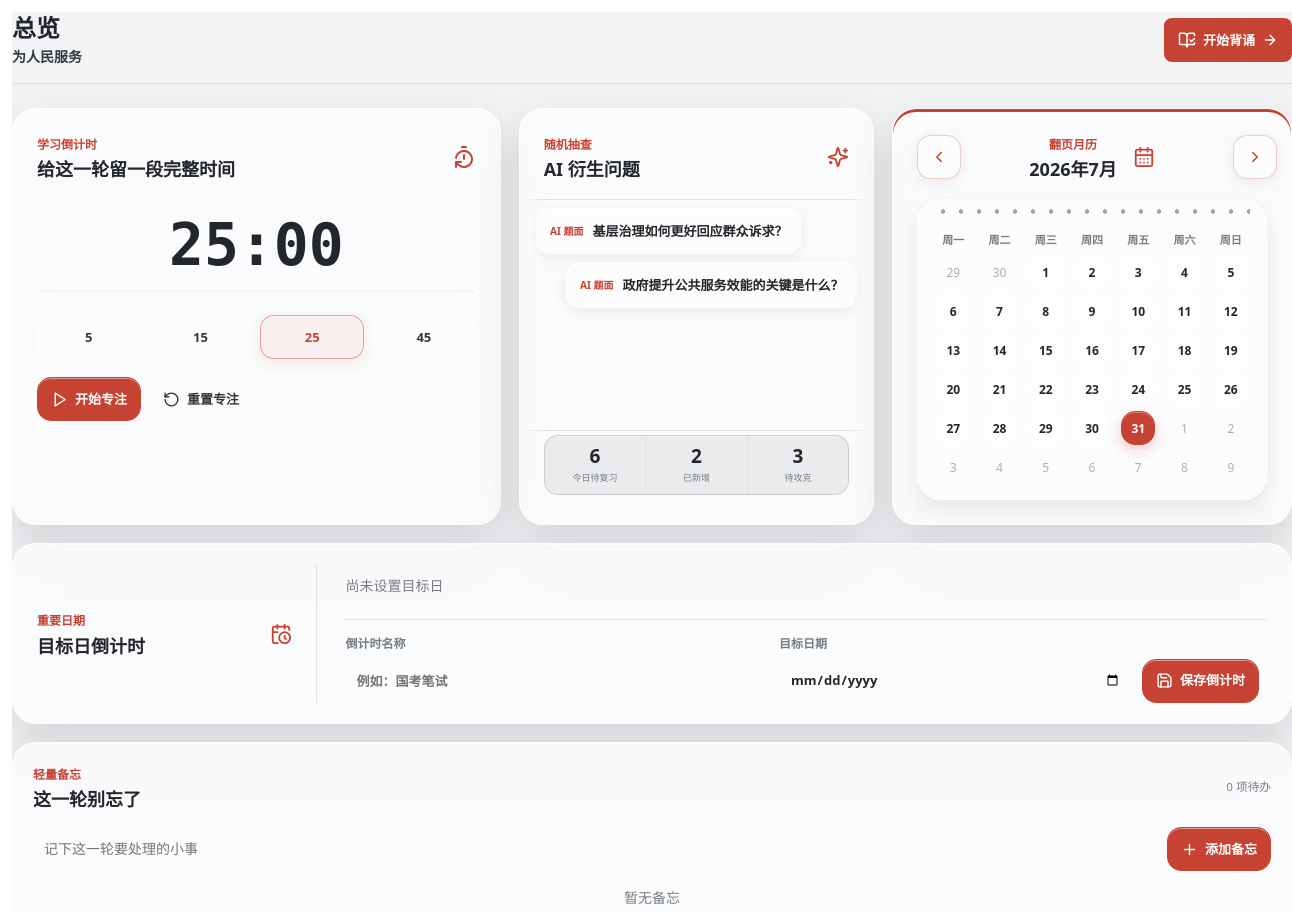
it: 学习驾驶舱 › 提供 5、15、25、45 分钟常用时长
Expected: the text "25:00" is shown, [169, 212, 344, 280]
Expected: the button named "5 分钟" is shown, [37, 316, 141, 360]
Click the button named "45 分钟": (424, 338) [372, 316, 476, 360]
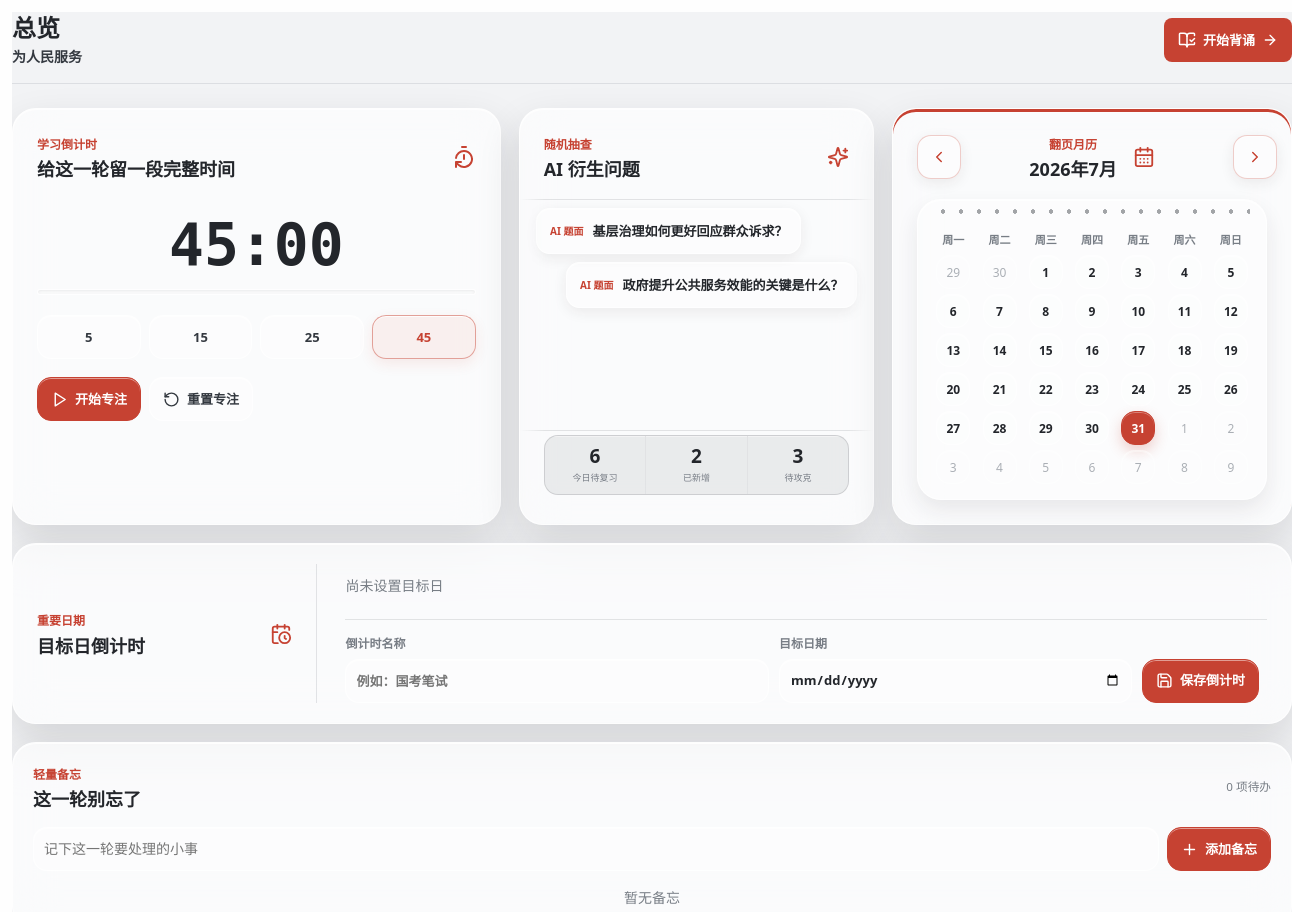
Expected: the text "45:00" is shown, [169, 212, 344, 280]
